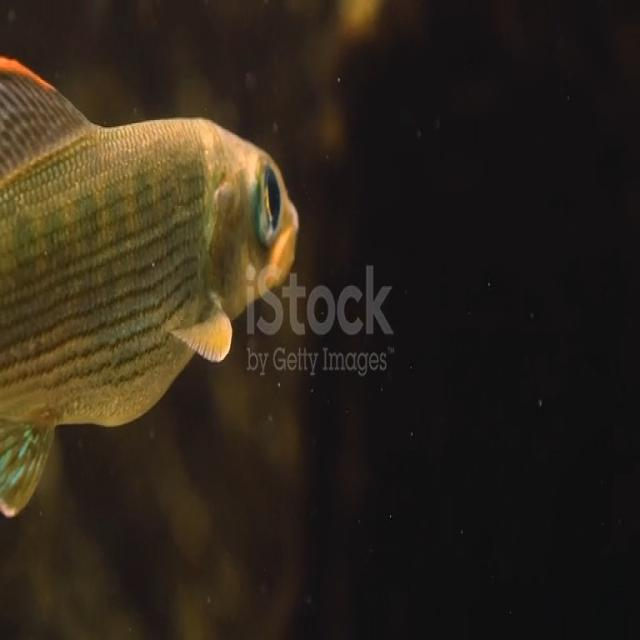fish: (0, 53, 304, 522)
